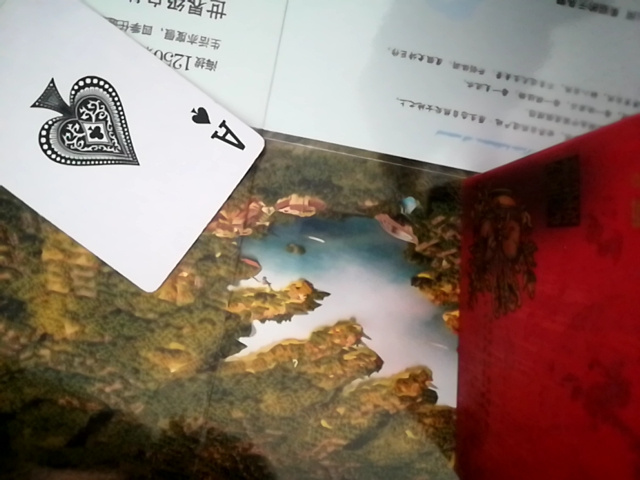ht a: (0, 0, 272, 300)
